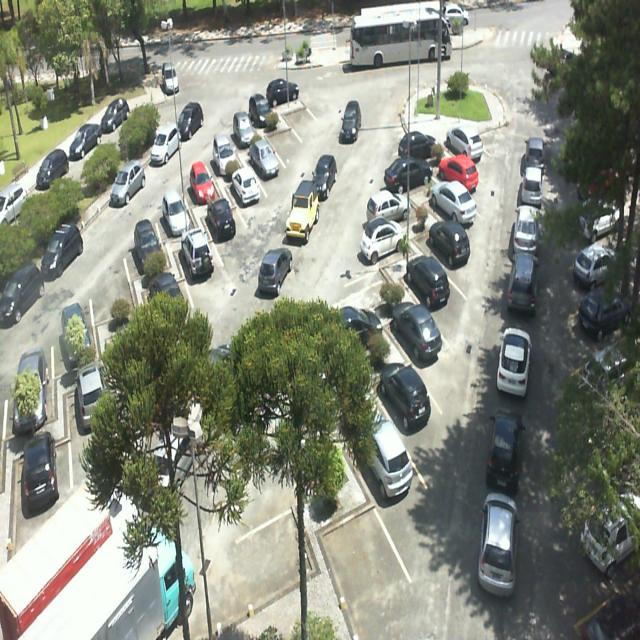bus: (349, 1, 452, 67)
car: (580, 492, 640, 578), (478, 492, 520, 598), (365, 418, 413, 499), (141, 432, 193, 504), (20, 430, 59, 519), (380, 362, 430, 430), (11, 348, 49, 436), (485, 409, 525, 492), (577, 588, 640, 640), (392, 300, 442, 362), (578, 286, 631, 341), (0, 263, 44, 325), (496, 327, 532, 398), (406, 254, 450, 310), (41, 223, 84, 279), (74, 362, 106, 434), (429, 180, 477, 227), (359, 216, 405, 264), (147, 272, 189, 324), (584, 344, 628, 392), (285, 180, 319, 242), (572, 244, 616, 290), (428, 220, 470, 268), (506, 252, 538, 314), (60, 302, 90, 366), (338, 305, 382, 348), (383, 156, 432, 194), (578, 200, 620, 242), (258, 247, 292, 297), (110, 159, 146, 206), (180, 228, 213, 279), (512, 205, 542, 257), (134, 218, 162, 273), (438, 154, 478, 192), (366, 189, 410, 223), (444, 124, 483, 161), (35, 148, 69, 190), (247, 138, 279, 180), (162, 190, 190, 238), (207, 197, 236, 243), (150, 122, 181, 165), (69, 123, 102, 160), (312, 154, 337, 201), (0, 184, 28, 225), (190, 160, 216, 204), (232, 167, 260, 206), (100, 97, 130, 133), (398, 130, 436, 158), (178, 100, 204, 140), (212, 133, 236, 175), (266, 78, 299, 108), (520, 136, 544, 176), (339, 100, 361, 143), (521, 165, 543, 207), (232, 110, 255, 148), (248, 93, 272, 127), (443, 3, 469, 26), (161, 62, 179, 94)
truck: (0, 470, 139, 640), (18, 522, 196, 639)
